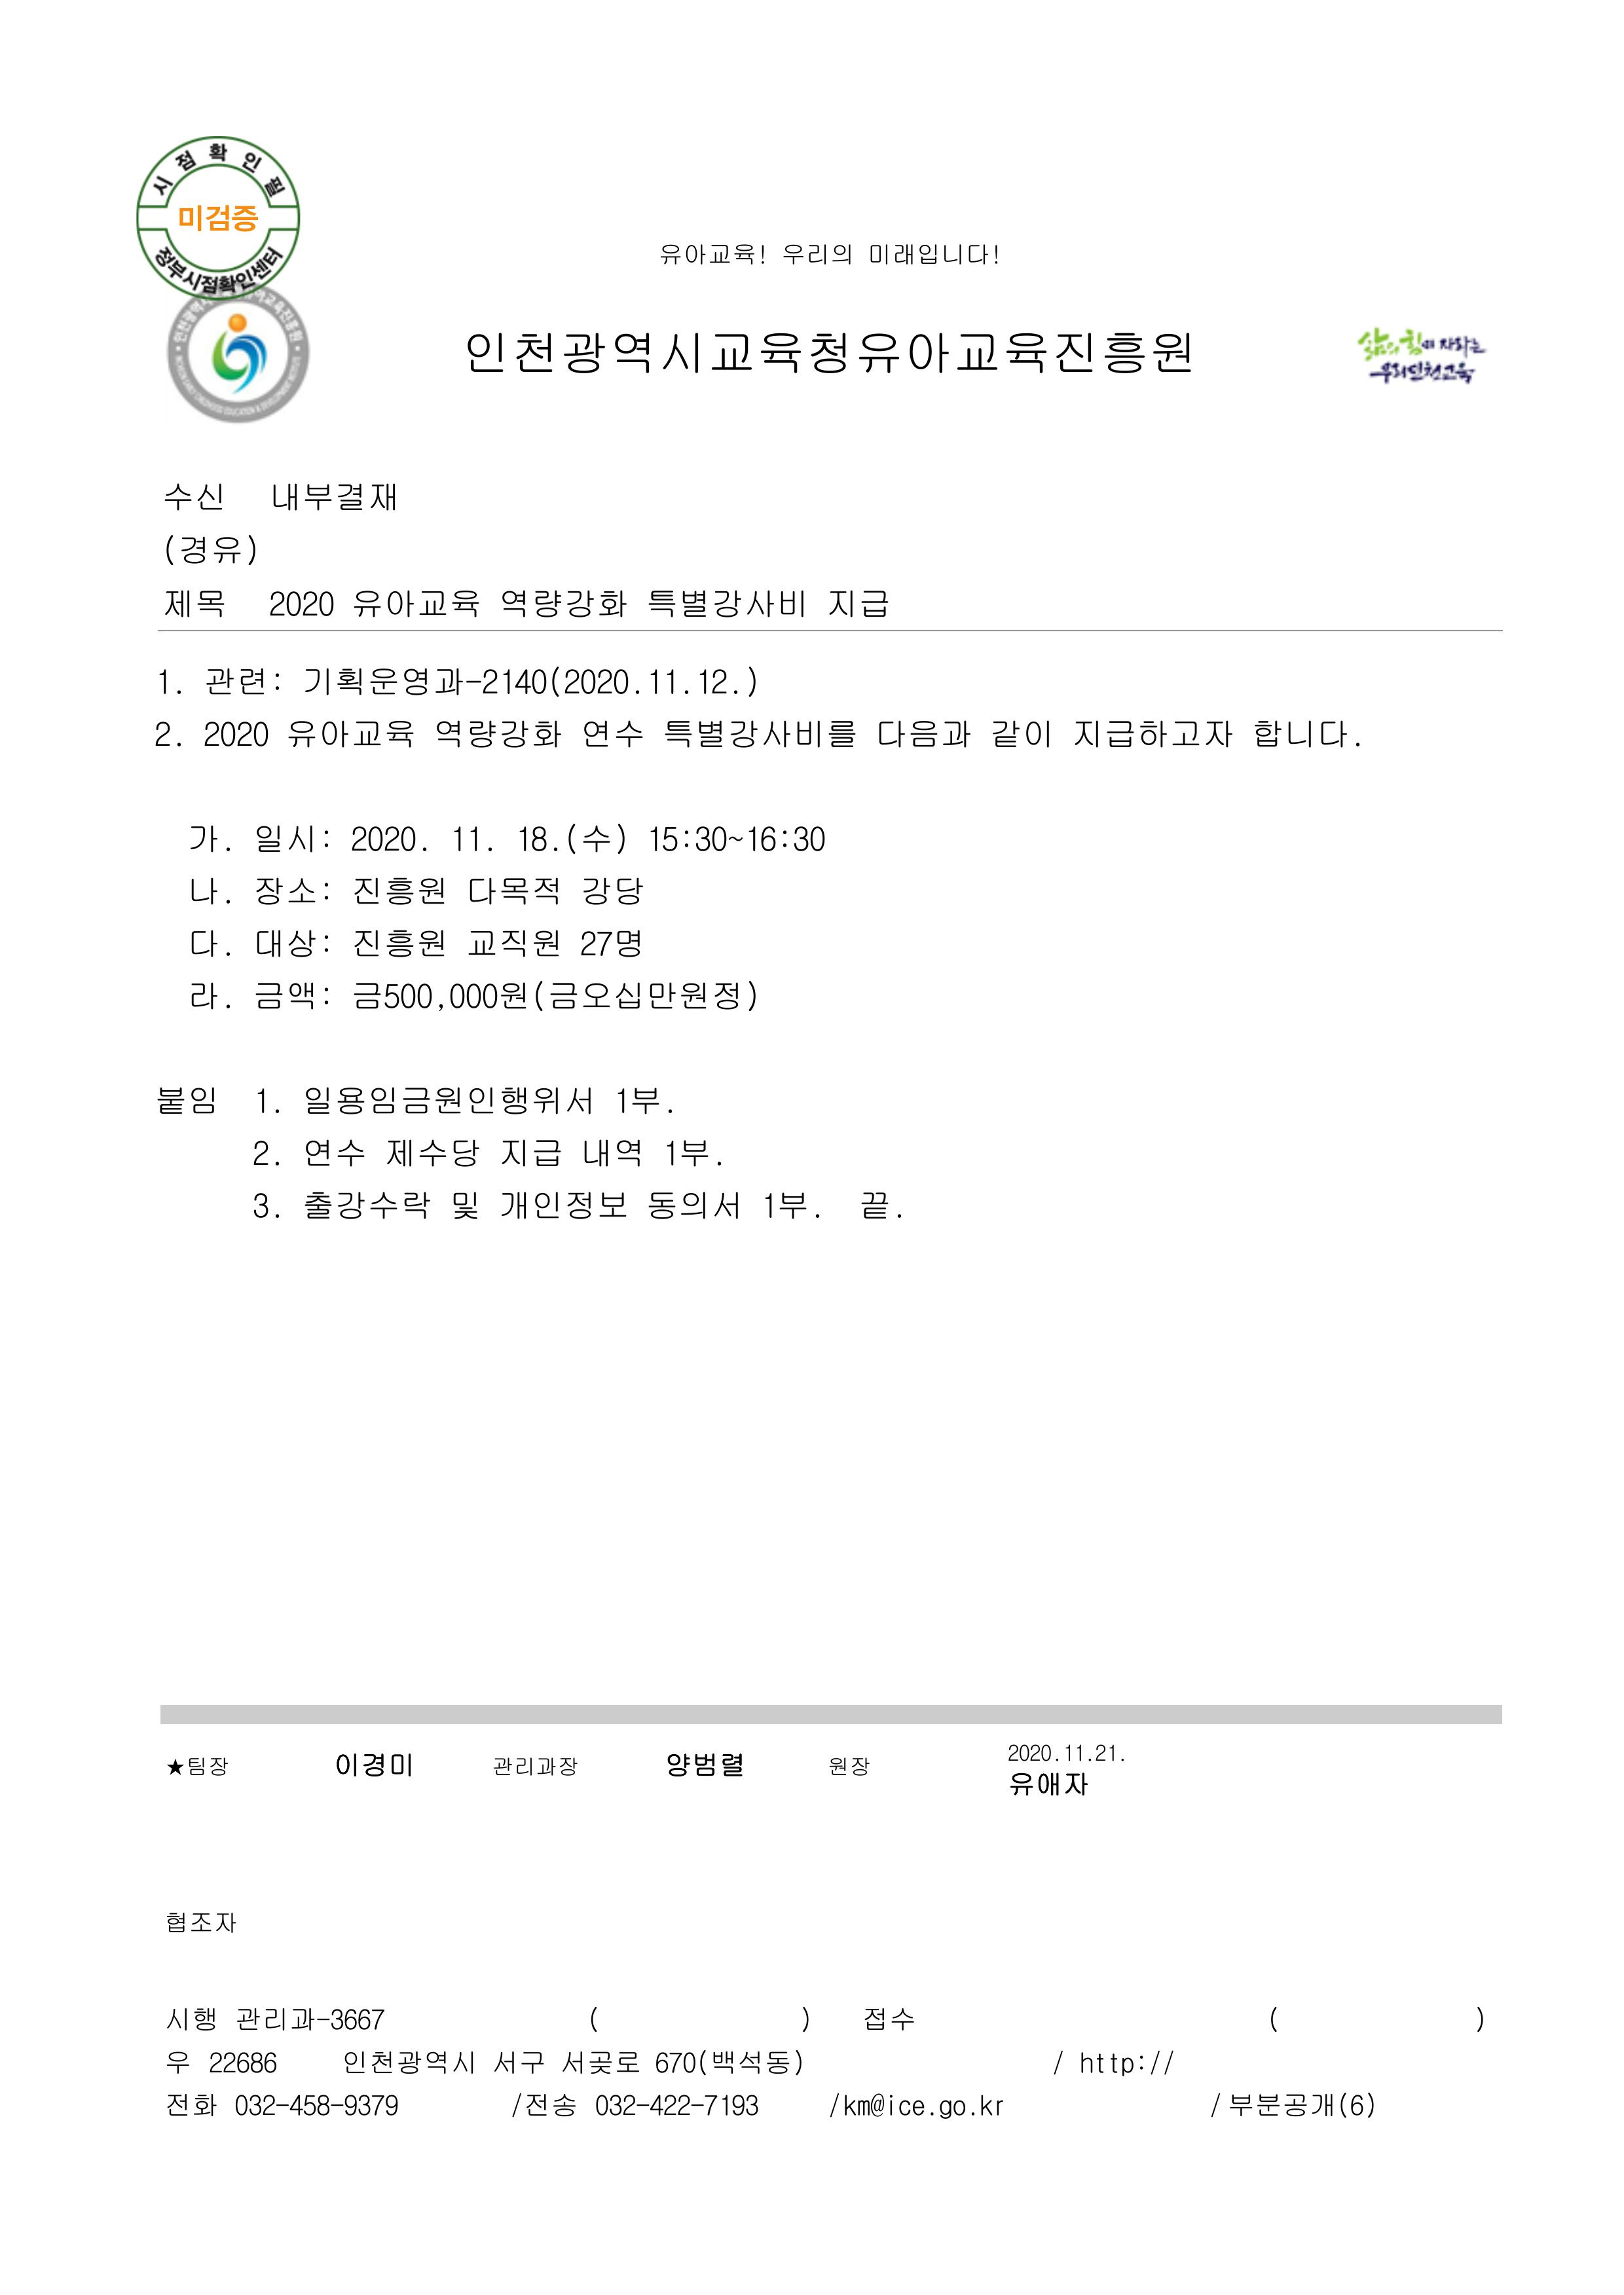t: (659, 329, 1194, 383), (445, 975, 760, 1014), (297, 663, 635, 699), (301, 1082, 595, 1118), (466, 326, 659, 380), (659, 713, 857, 753), (1069, 713, 1233, 753), (645, 584, 810, 623), (645, 821, 828, 856), (652, 2044, 807, 2080), (1226, 2087, 1377, 2123), (434, 713, 566, 753), (498, 584, 631, 623), (268, 477, 397, 516), (494, 1186, 627, 1222), (301, 1186, 434, 1222), (351, 584, 480, 620), (286, 717, 412, 754), (341, 2047, 477, 2080), (513, 821, 631, 856), (645, 663, 760, 699), (378, 1137, 480, 1175), (350, 875, 447, 913), (1359, 329, 1485, 358), (348, 925, 448, 961), (161, 530, 258, 566), (875, 717, 972, 753), (466, 871, 563, 907), (466, 925, 563, 961), (645, 1186, 742, 1222), (1251, 717, 1356, 749), (251, 871, 333, 911), (555, 2044, 642, 2080), (351, 979, 437, 1014), (175, 200, 258, 236), (251, 925, 333, 961), (204, 663, 287, 699), (251, 979, 333, 1014), (254, 821, 333, 856), (1007, 1767, 1090, 1800), (574, 875, 644, 913), (333, 1750, 416, 1782), (663, 1750, 746, 1782), (1370, 362, 1473, 387), (828, 2094, 929, 2119), (290, 2008, 387, 2033), (301, 1133, 369, 1169), (494, 1133, 563, 1169), (348, 821, 423, 853), (161, 584, 226, 620), (824, 584, 889, 620), (989, 717, 1054, 753), (577, 925, 642, 961), (154, 1082, 219, 1118), (200, 717, 272, 749), (265, 588, 337, 620), (1076, 2045, 1149, 2076), (577, 1137, 645, 1169), (509, 2087, 577, 2119), (918, 244, 1004, 268), (204, 2047, 280, 2076), (760, 1186, 817, 1222), (164, 480, 226, 513), (581, 717, 642, 749), (613, 1082, 667, 1118), (659, 1137, 717, 1169), (448, 821, 498, 856), (168, 1911, 240, 1936), (341, 2090, 401, 2119), (232, 2004, 290, 2033), (706, 244, 771, 268), (164, 2004, 219, 2033), (591, 2090, 645, 2119), (168, 1757, 229, 1782), (703, 2094, 764, 2119), (491, 2047, 545, 2076), (186, 821, 232, 853), (229, 2090, 280, 2119), (857, 1186, 896, 1222), (164, 2094, 222, 2119), (186, 925, 226, 957), (864, 2008, 914, 2033), (186, 875, 226, 907), (186, 979, 226, 1011), (659, 244, 710, 268), (649, 2094, 699, 2119), (781, 244, 828, 268), (868, 244, 914, 268), (287, 2094, 333, 2119), (448, 1186, 480, 1222), (936, 2097, 979, 2123), (1007, 1742, 1054, 1764), (534, 1757, 581, 1778), (828, 1757, 871, 1778), (1144, 2047, 1176, 2076), (1086, 1742, 1122, 1767), (494, 1757, 534, 1778), (254, 1086, 283, 1115), (254, 1190, 280, 1222), (979, 2094, 1007, 2119), (254, 1140, 276, 1169), (1061, 1742, 1090, 1764), (168, 2051, 190, 2076), (157, 720, 175, 749), (157, 670, 175, 695), (832, 244, 849, 265)
